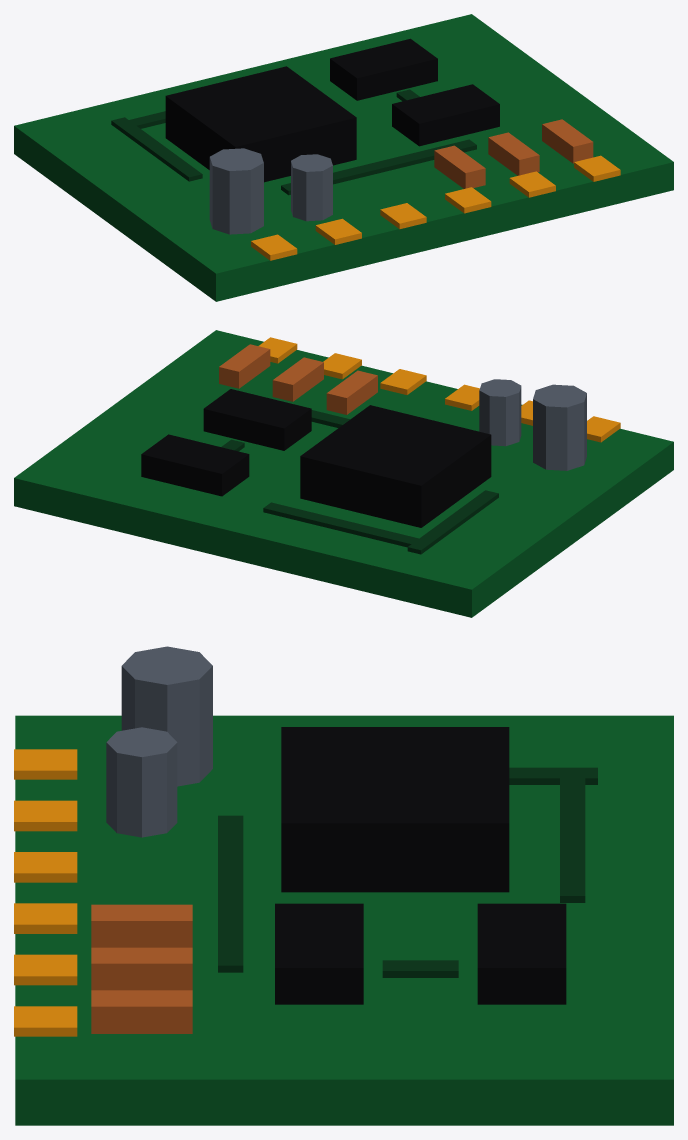
File: circuits.glb
3 renders of one model, top to bottom at view 1: azimuth 30°, elevation 25°; view 2: azimuth 150°, elevation 25°; view 3: azimuth 270°, elevation 25°, orthographic. The views are drawn at different scales.
Parts seen in each view (by area): view 1: circuits; view 2: circuits; view 3: circuits.
Boxes of the visible parts, x1,y1,x2,y2 form: circuits: (14,14,673,301); circuits: (14,330,673,617); circuits: (14,646,673,1125).
Size of the model in its own units: 0.34 by 0.065 by 0.2605.
Materials: 1 (1 with a texture image).
